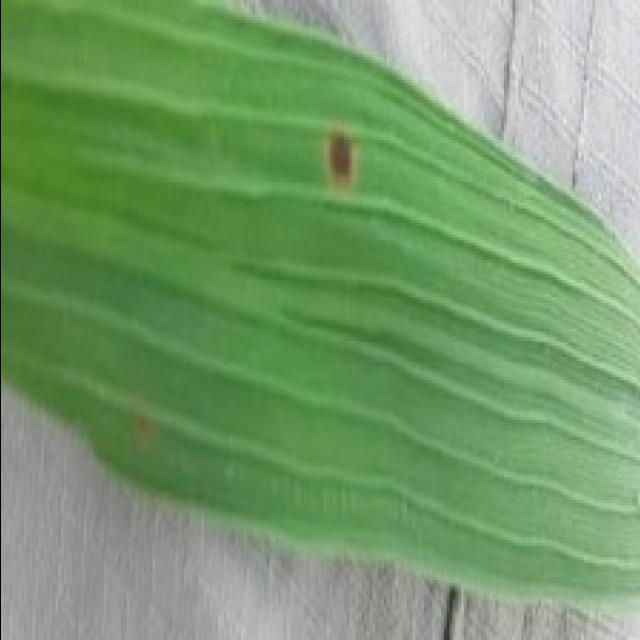Unhealthy: (318, 119, 361, 194), (132, 411, 153, 441)
